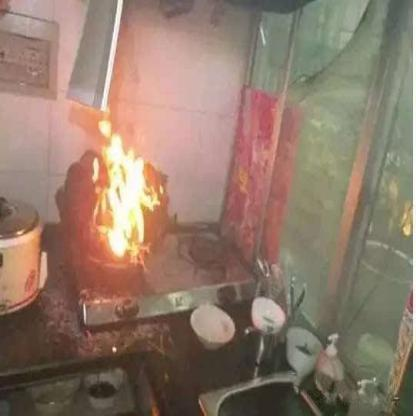fire: (104, 136, 144, 258), (89, 154, 99, 186), (144, 190, 157, 210), (98, 119, 113, 136)
